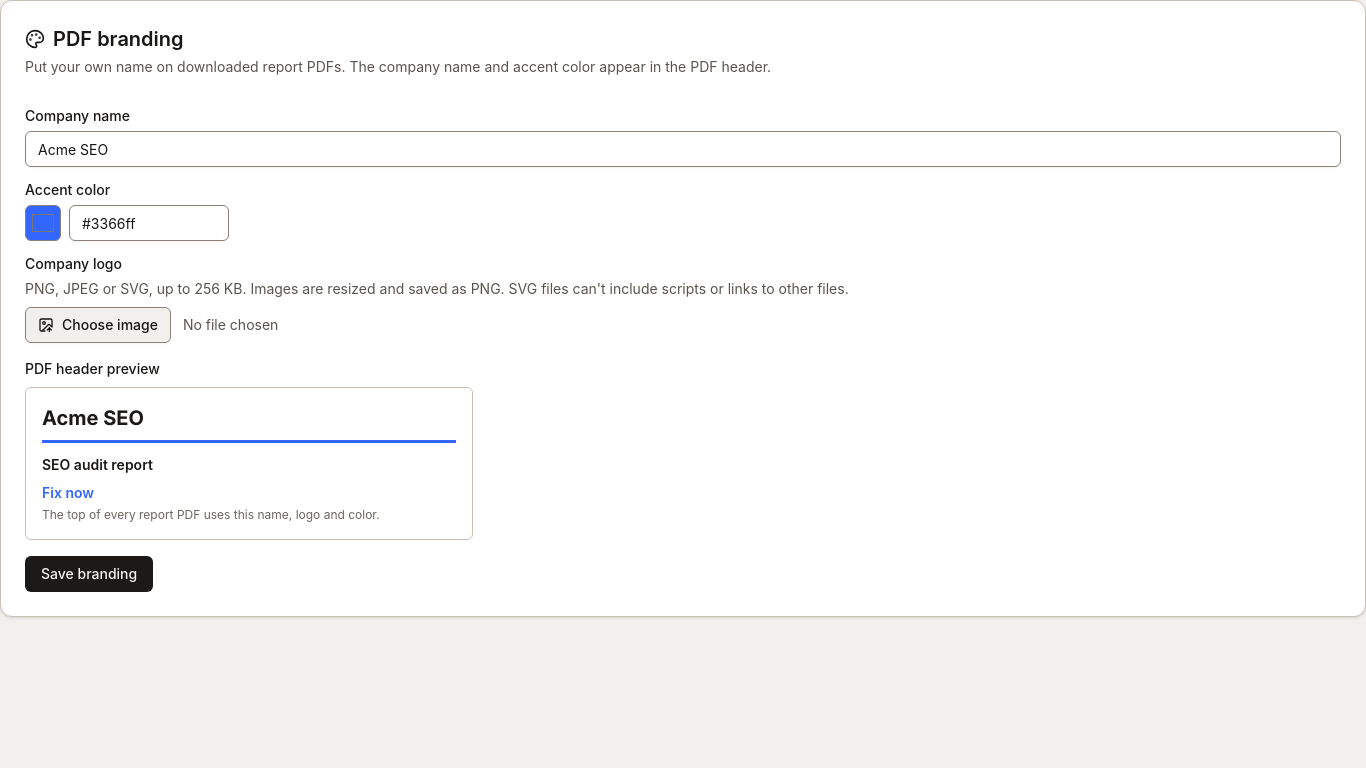
Scenario: BrandingPanel › refuses to save a blank company name , with the error on the field
Clear the field labelled "Company name" at (683, 149), box [25,131,1341,167]
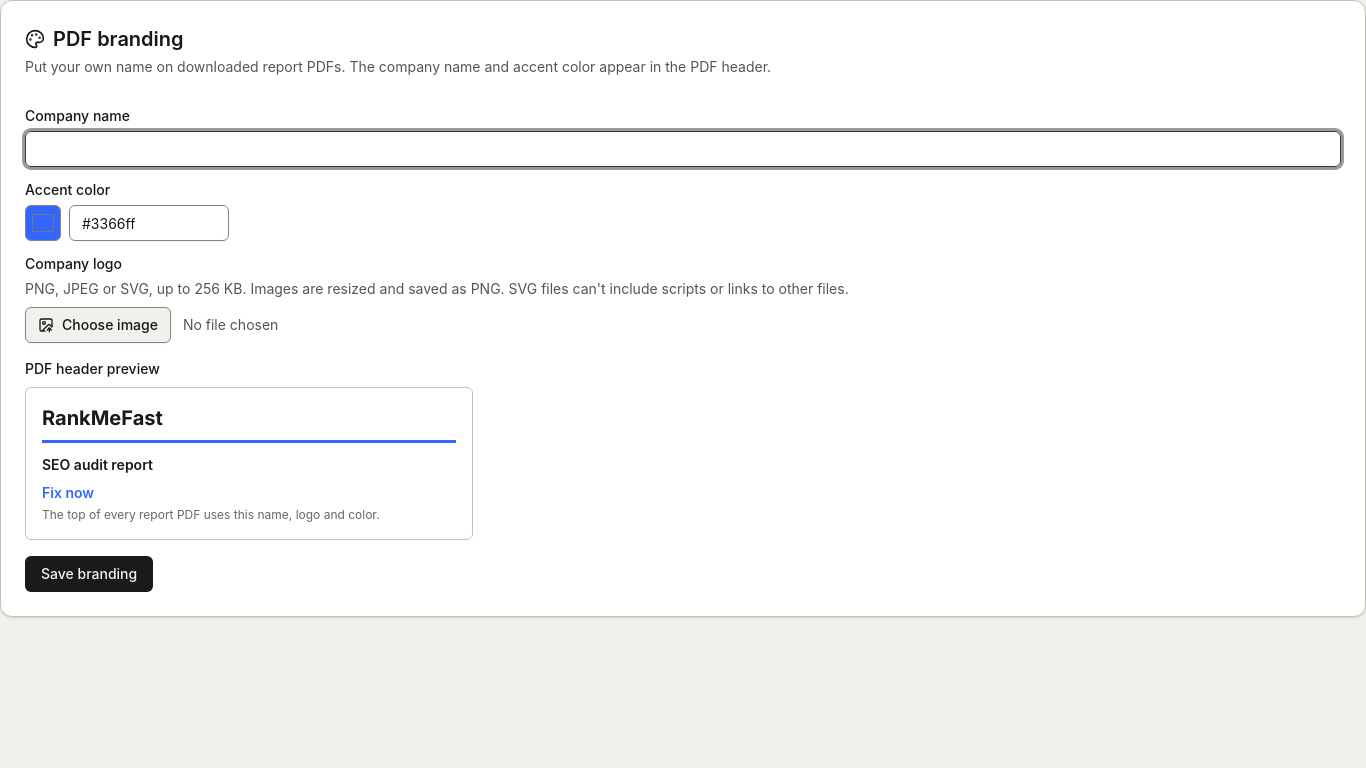
Click the button "Save branding" at (89, 574), box [25,556,153,592]
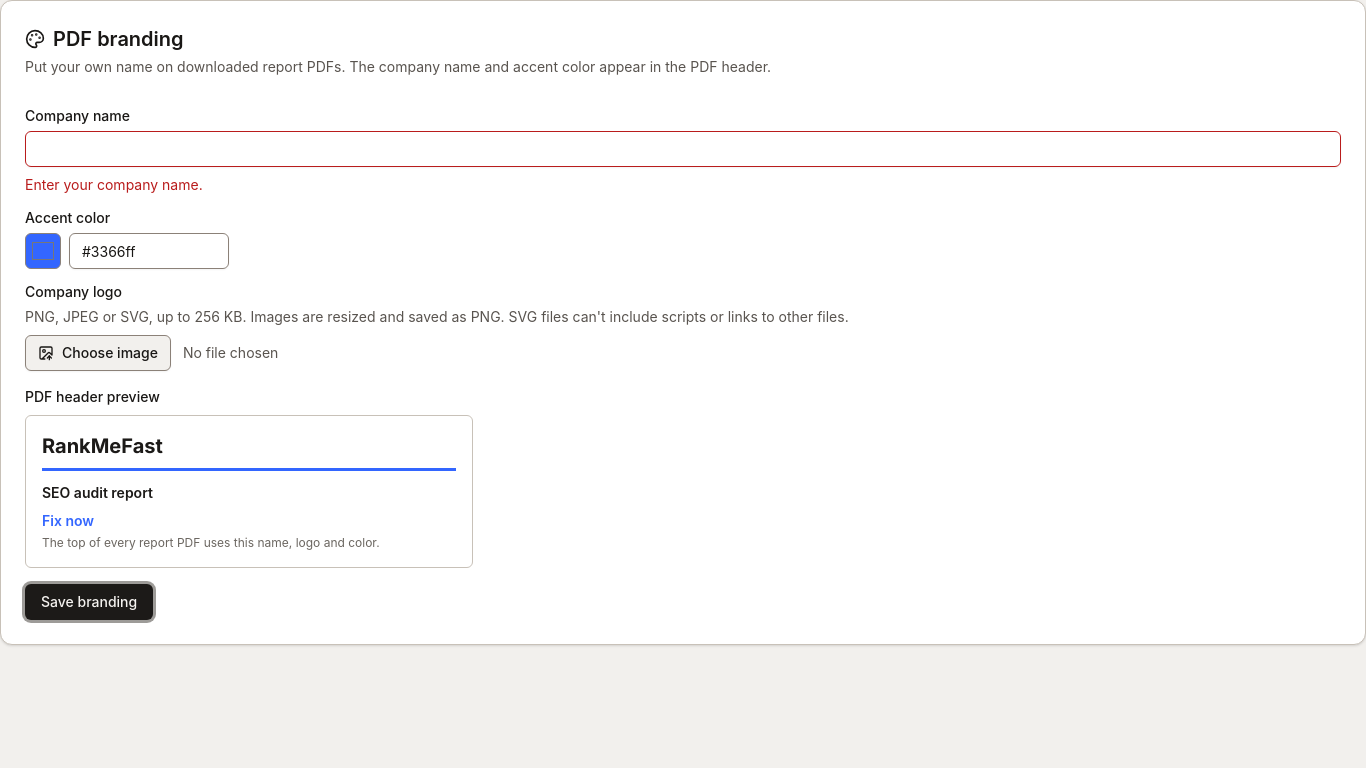
Now the text "Enter your company name." is shown, box [25,176,203,193]
Type "A" into the field labelled "Company name" at (683, 149), box [25,131,1341,167]
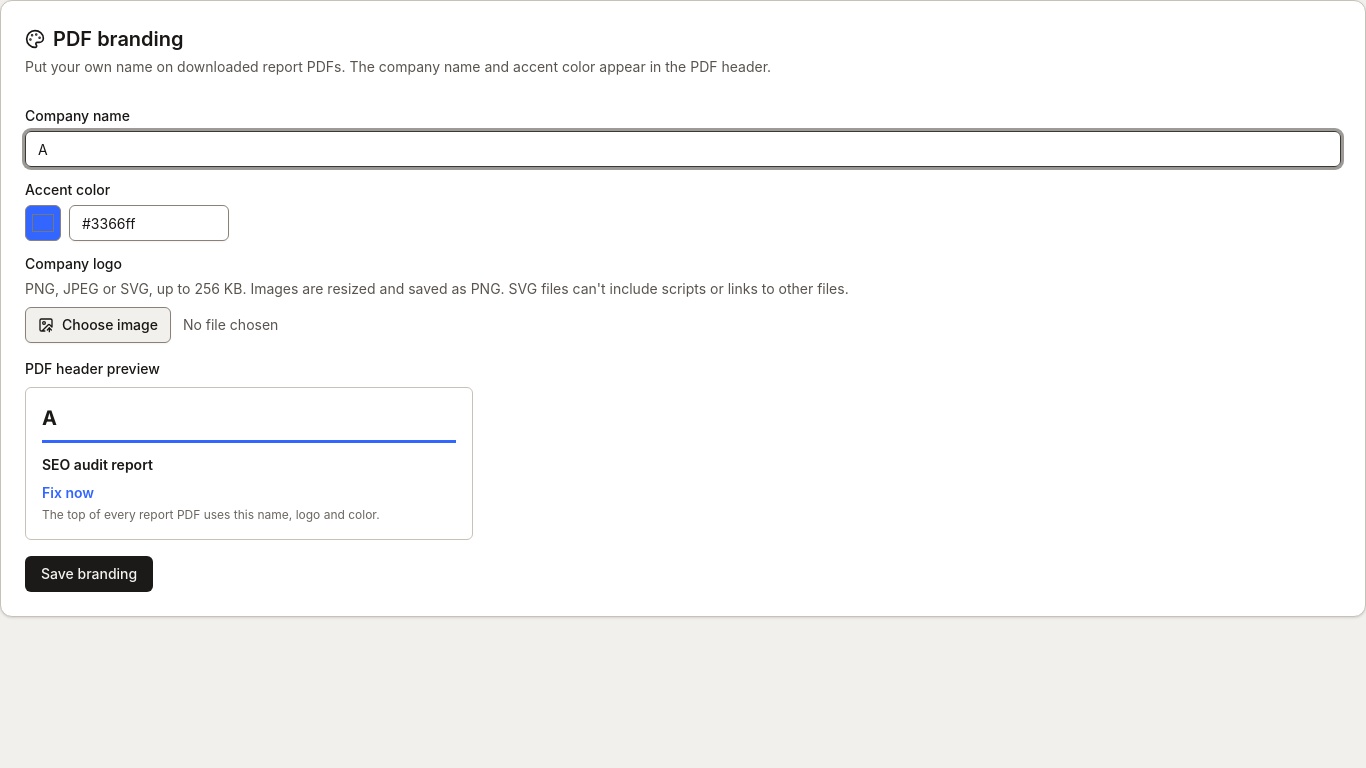
Now the text "Enter your company name." is gone
